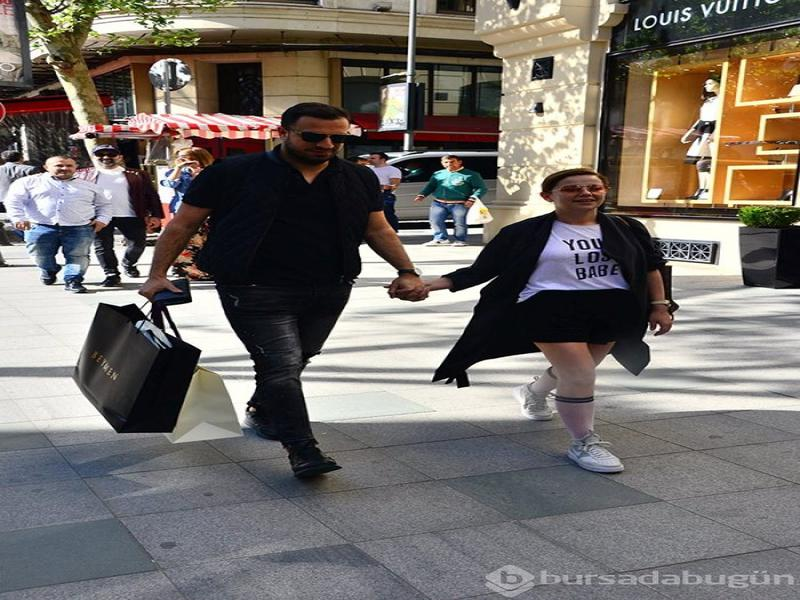human: (140, 102, 426, 481), (426, 168, 669, 471)
